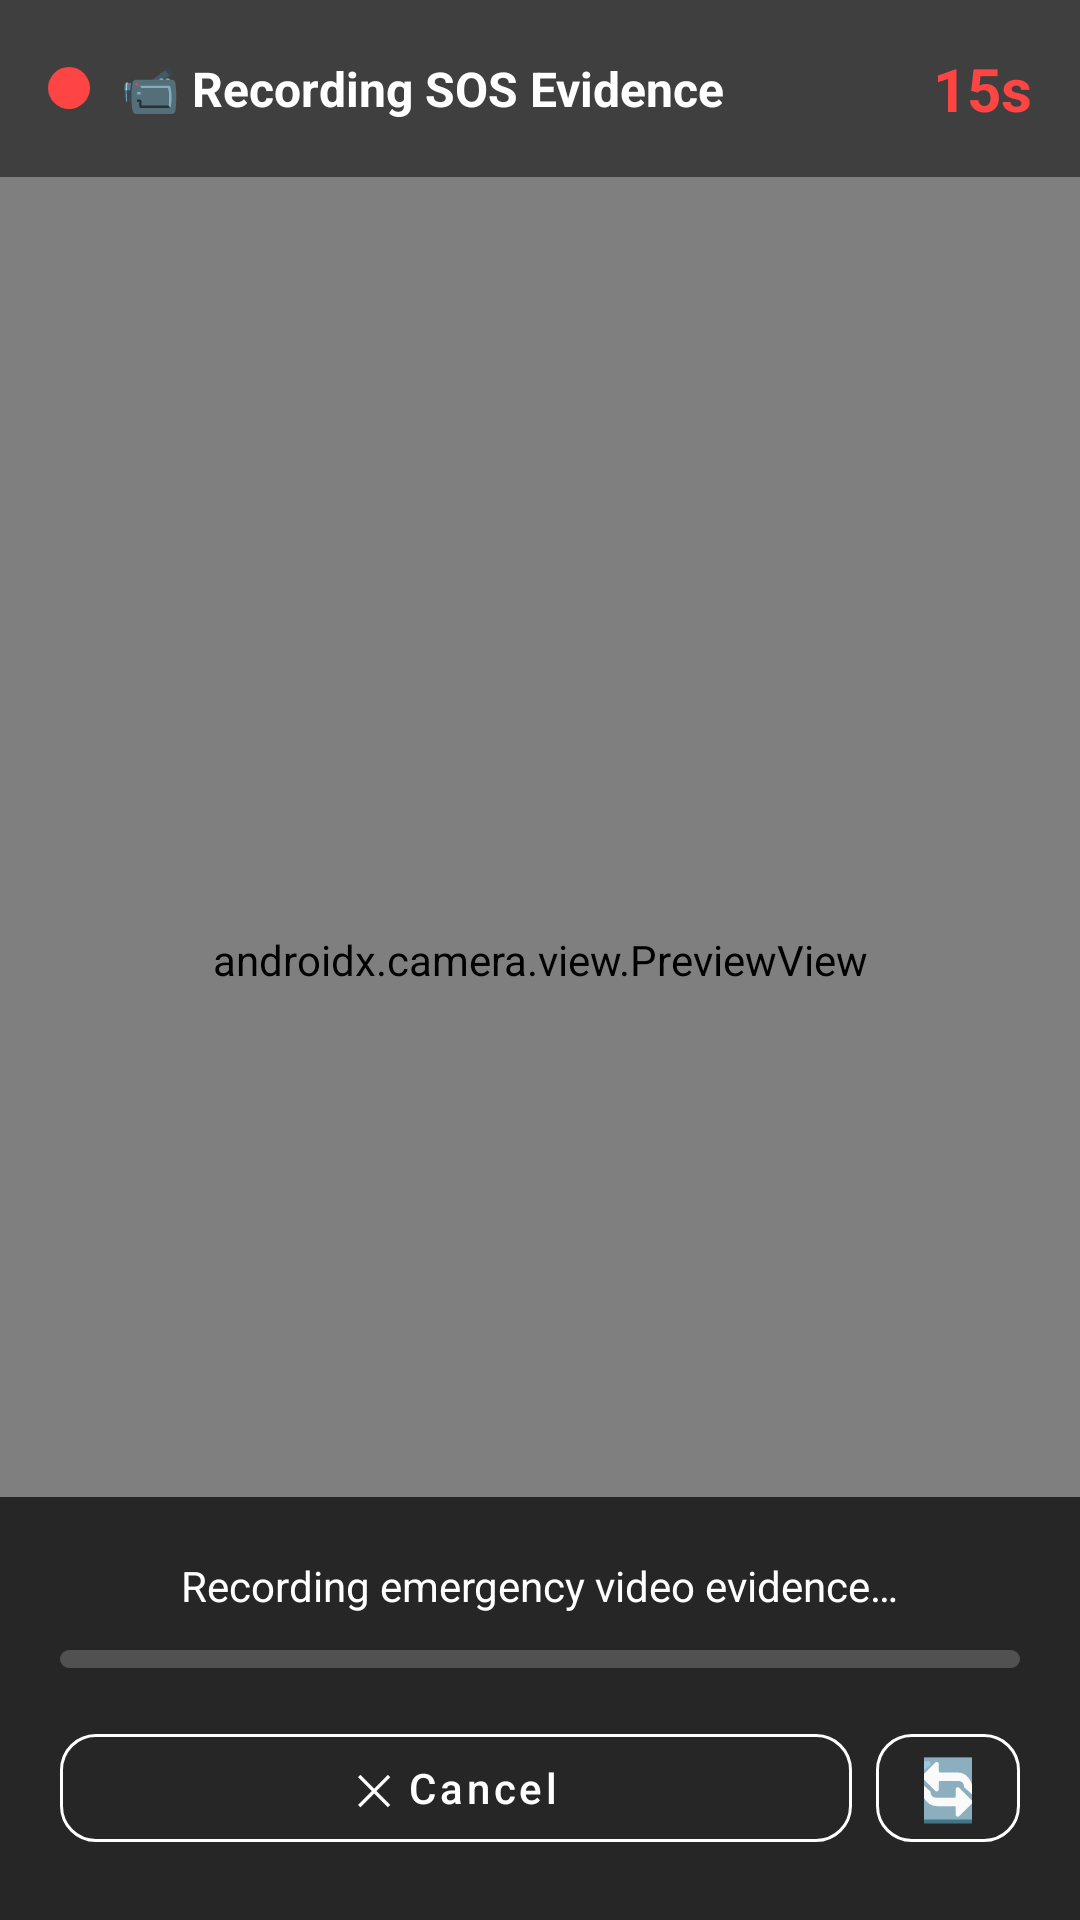

Where to tap for icons on this 1080px×1920px app screen, as (x=x, y=y):
recording dot: (x=69, y=88)
